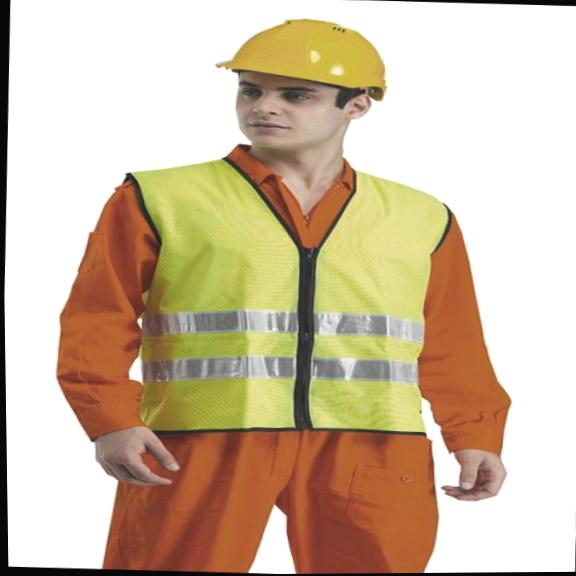safety_vest: (117, 157, 459, 445)
